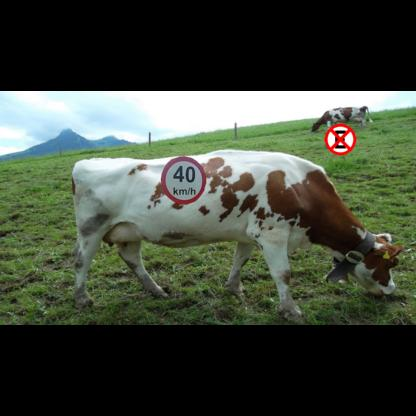R-19: (161, 156, 206, 204)
R-6c: (324, 124, 356, 155)
